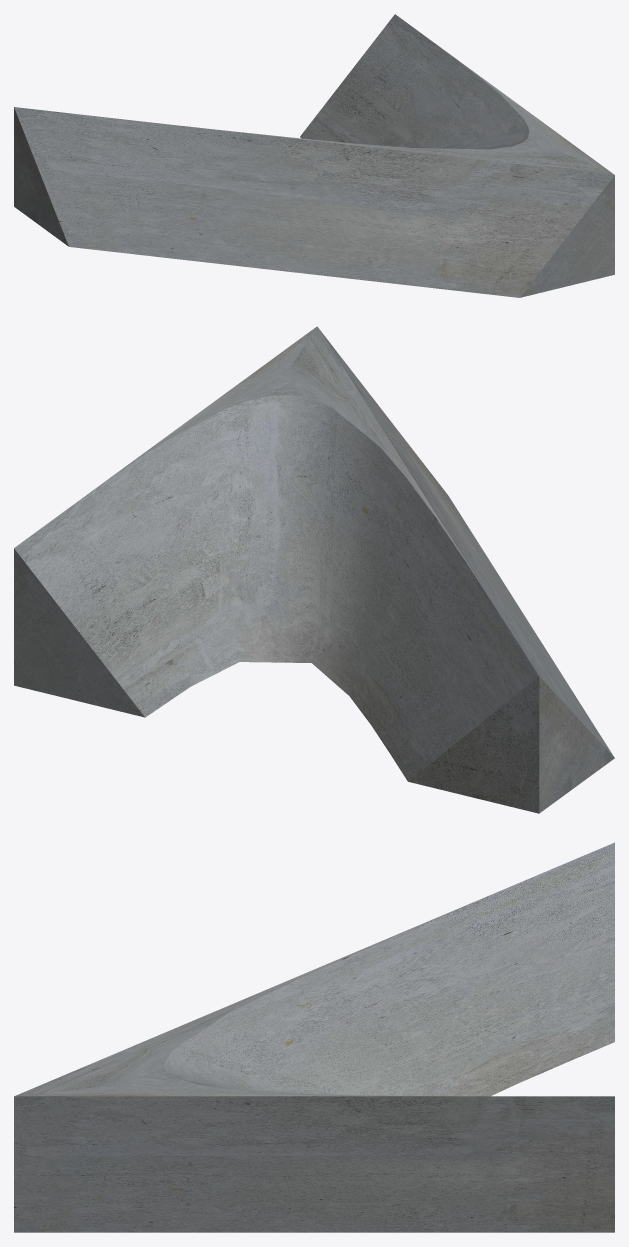
Rendered from module_F6.fbx.
3 renders of one model, top to bottom at view 1: azimuth 30°, elevation 25°; view 2: azimuth 150°, elevation 25°; view 3: azimuth 270°, elevation 25°, orthographic. The views are drawn at different scales.
Parts seen in each view (by area): view 1: modules; view 2: modules; view 3: modules.
Part boxes in pixels (bbox=[...]): modules: bbox=[14, 14, 614, 297]; modules: bbox=[14, 326, 614, 813]; modules: bbox=[14, 842, 614, 1232].
Size of the model in its own units: 1000 by 1000 by 250.
1 material, 1 textured.
